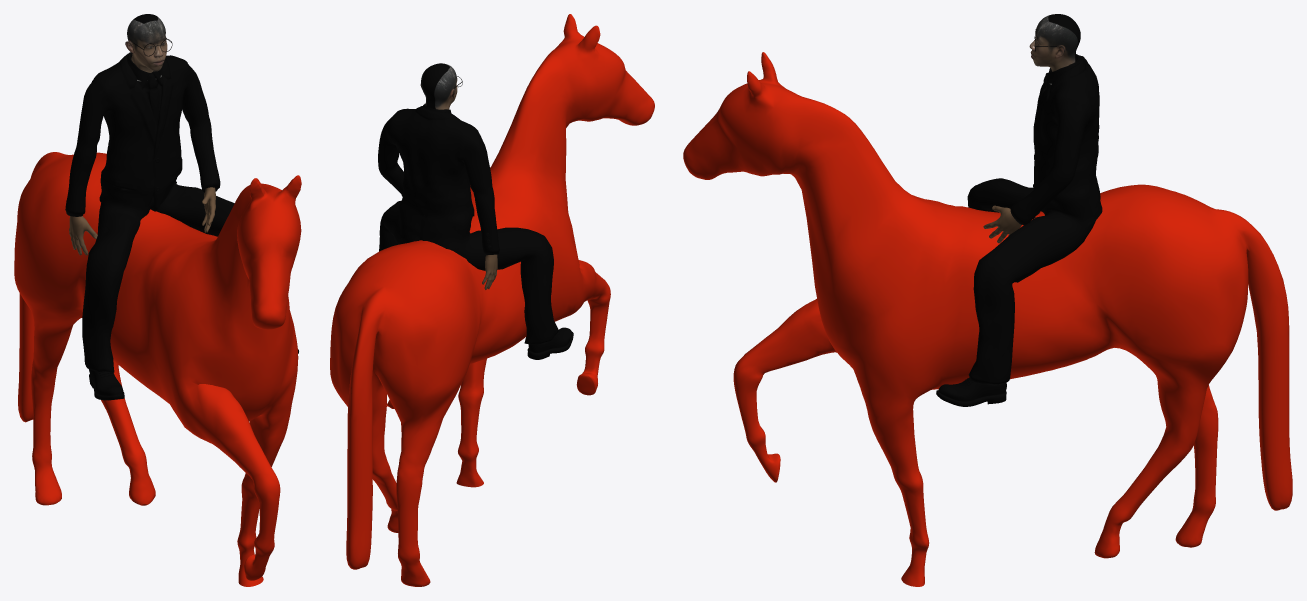
File: HorseMan.gltf
3 views of the same model, side by side, from view 1: azimuth 30°, elevation 25°; view 2: azimuth 150°, elevation 25°; view 3: azimuth 270°, elevation 25° (orthographic). The views are drawn at different scales.
Parts seen in each view (by area): view 1: Mesh16_Model, Makehuman2_Male_elegantsuit01_001, FBHead, Makehuman2_Body, Makehuman2_Shoes03; view 2: Mesh16_Model, Makehuman2_Male_elegantsuit01_001, FBHead, Makehuman2_Shoes03; view 3: Mesh16_Model, Makehuman2_Male_elegantsuit01_001, FBHead, Makehuman2_Shoes03.
Part boxes in pixels (x1=…): Mesh16_Model: x1=14, y1=152, x2=301, y2=586; Makehuman2_Male_elegantsuit01_001: x1=65, y1=52, x2=234, y2=372; FBHead: x1=125, y1=14, x2=167, y2=81; Makehuman2_Body: x1=69, y1=187, x2=215, y2=255; Makehuman2_Shoes03: x1=89, y1=349, x2=298, y2=400; Mesh16_Model: x1=330, y1=14, x2=654, y2=586; Makehuman2_Male_elegantsuit01_001: x1=378, y1=103, x2=558, y2=344; FBHead: x1=420, y1=63, x2=457, y2=109; Makehuman2_Shoes03: x1=527, y1=327, x2=573, y2=359; Mesh16_Model: x1=683, y1=52, x2=1292, y2=586; Makehuman2_Male_elegantsuit01_001: x1=967, y1=54, x2=1102, y2=384; FBHead: x1=1029, y1=14, x2=1080, y2=84; Makehuman2_Shoes03: x1=936, y1=377, x2=1006, y2=406.
Bounding box in the file's own units: 0.3319 × 0.8393 × 0.8481.
9 materials, 1 textured.
